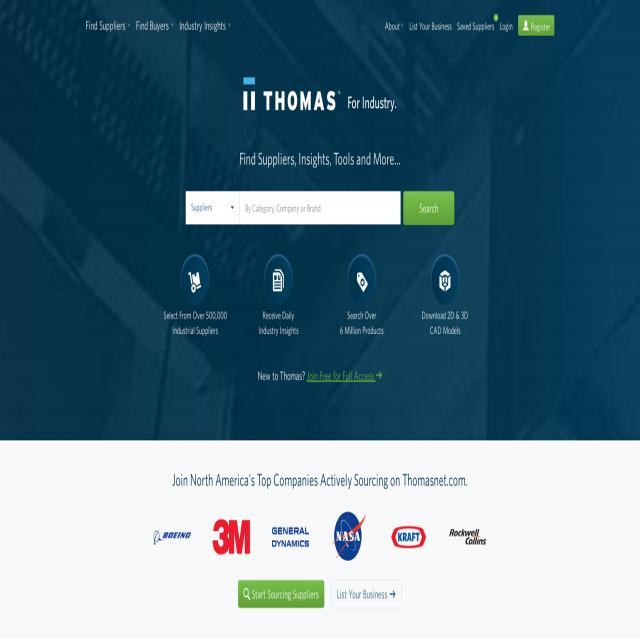button: (320, 499, 379, 575), (244, 77, 340, 111), (202, 510, 260, 564), (379, 514, 438, 560), (238, 579, 324, 608), (261, 517, 320, 556), (176, 0, 234, 39), (438, 519, 498, 555), (142, 520, 202, 554), (83, 0, 133, 39), (332, 579, 401, 607), (407, 0, 454, 39), (133, 0, 177, 39), (404, 191, 454, 225), (455, 0, 497, 39), (347, 253, 376, 305), (179, 255, 209, 303), (264, 256, 293, 304), (432, 254, 459, 304), (382, 0, 407, 39), (497, 0, 515, 39), (518, 16, 554, 34)
field: (240, 191, 400, 224), (185, 191, 239, 224)
